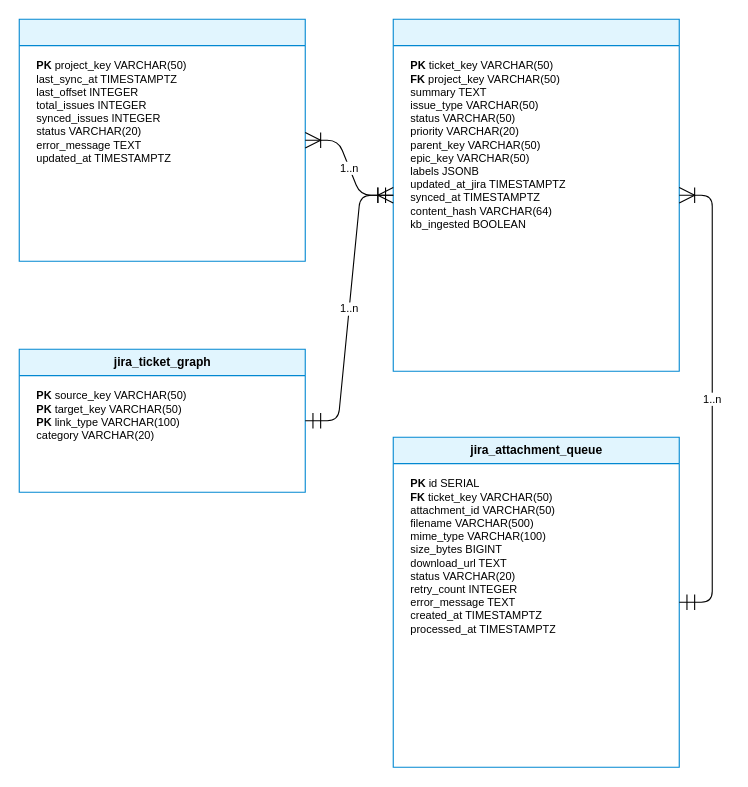
Image size: 748x787. Some labels were removed from this diagram. The box of each missing label's shape, as (x1, y1, x2, y2) in pixels:
jira_sync_state: (18, 18, 305, 261)
jira_ticket_cache: (392, 18, 679, 371)
